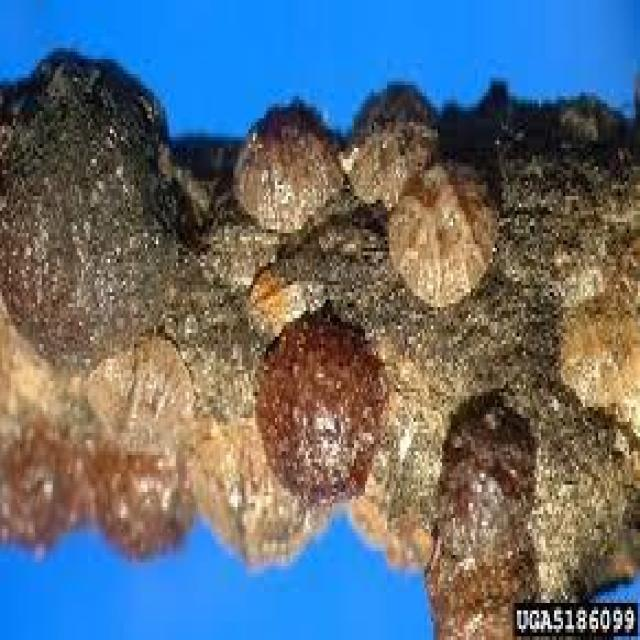BlackScale: (0, 51, 178, 362), (0, 418, 191, 544), (256, 314, 380, 500), (440, 392, 526, 570), (389, 166, 495, 304), (233, 100, 341, 229), (343, 82, 431, 204)
